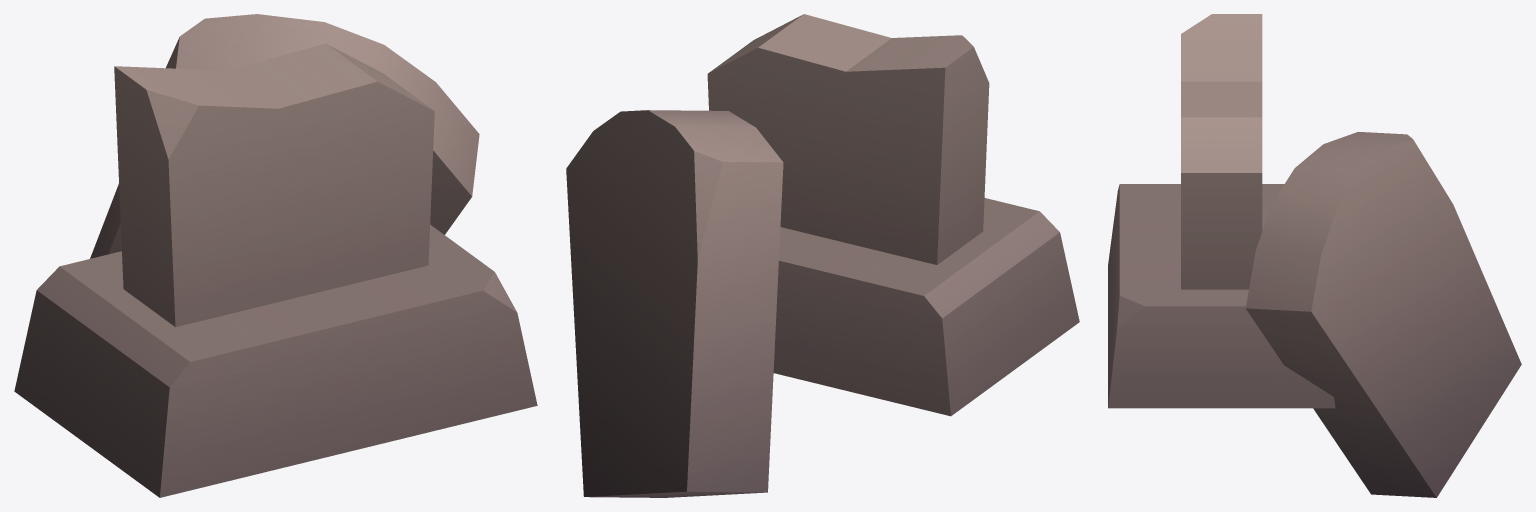
File: tombstone10.glb
The picture shows the model from 3 angles, left to right: view 1: azimuth 30°, elevation 25°; view 2: azimuth 150°, elevation 25°; view 3: azimuth 270°, elevation 25°; orthographic projection. The views are drawn at different scales.
Parts seen in each view (by area): view 1: tombstone10; view 2: tombstone10; view 3: tombstone10.
Part boxes in pixels (bbox=[...]): tombstone10: bbox=[14, 14, 537, 497]; tombstone10: bbox=[566, 14, 1079, 497]; tombstone10: bbox=[1108, 14, 1521, 497].
Bounding box in the file's own units: 0.7462 × 0.7846 × 0.7612.
1 material, 1 textured.
